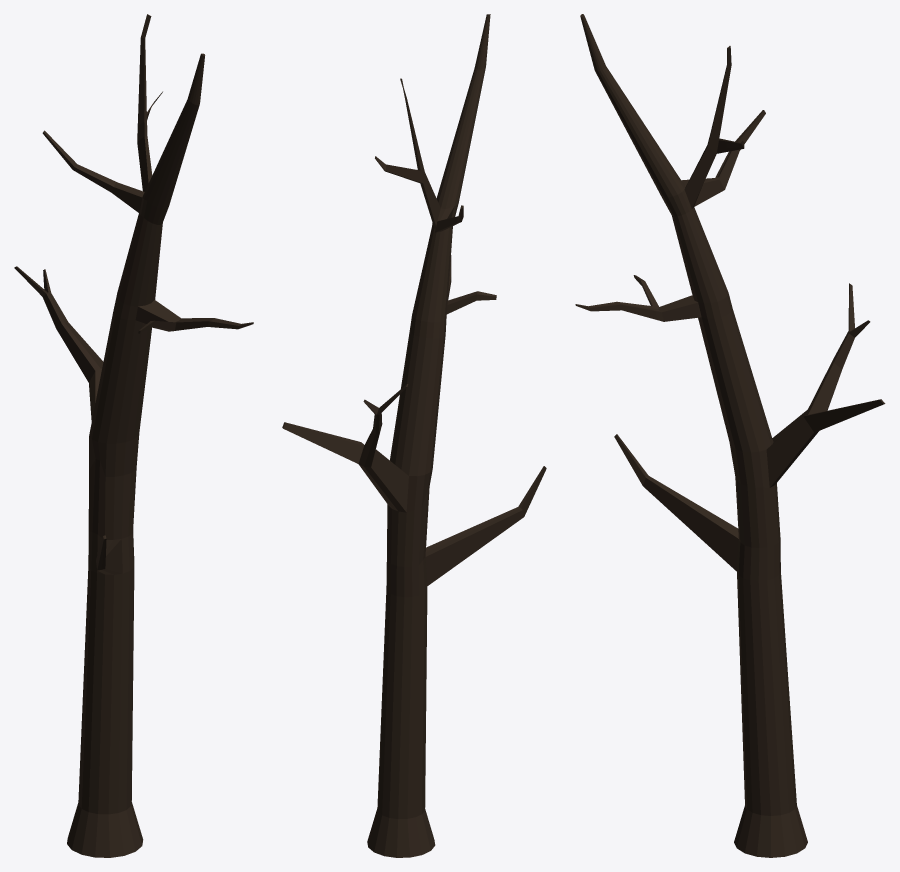
The model's file is drytree.fbx.
The picture shows the model from 3 angles, left to right: view 1: azimuth 30°, elevation 25°; view 2: azimuth 150°, elevation 25°; view 3: azimuth 270°, elevation 25°; orthographic projection. The views are drawn at different scales.
Visible parts, largest first — view 1: Cylinder; view 2: Cylinder; view 3: Cylinder.
Boxes of the visible parts, x1,y1,x2,y2 form: Cylinder: (14, 14, 253, 857); Cylinder: (282, 14, 546, 857); Cylinder: (575, 14, 885, 857).
Bounding box in the file's own units: 152 × 796 × 270.
